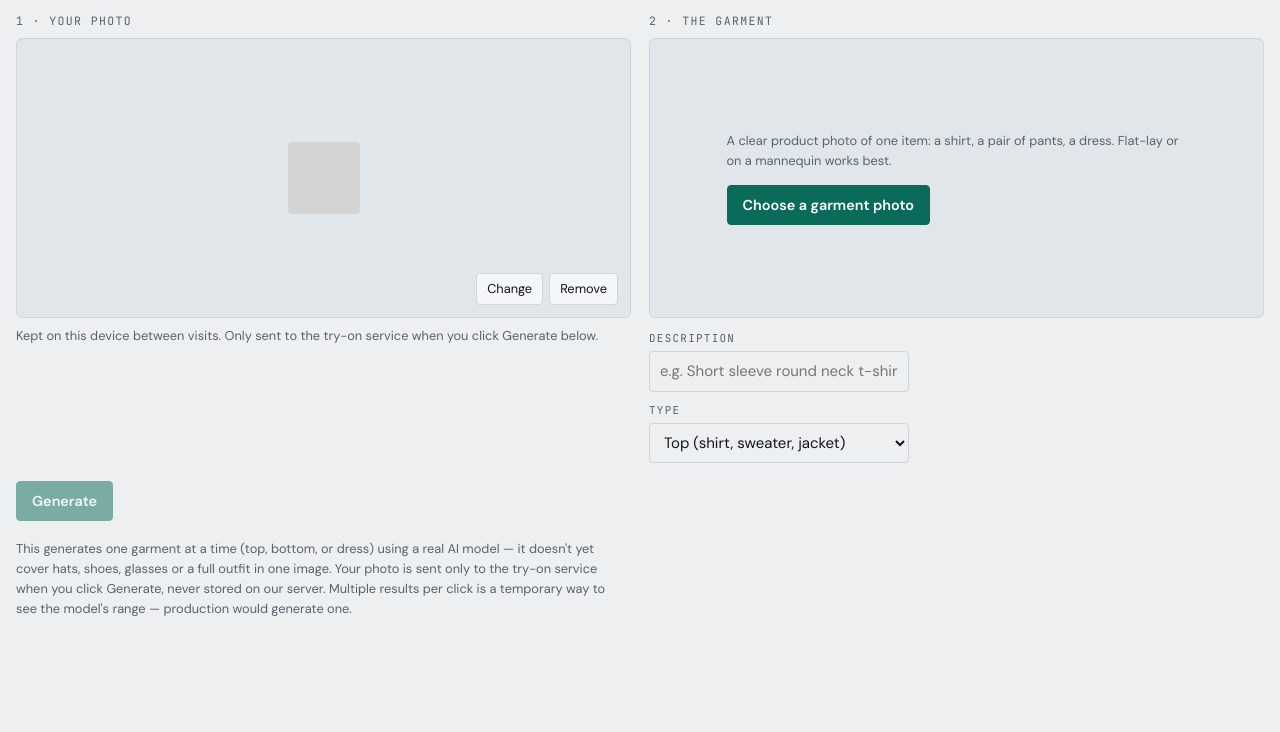
it: PhotoTryOn › Remove clears the saved person photo
Click the button "Remove": [584, 289] box x1=549 y1=273 x2=618 y2=305
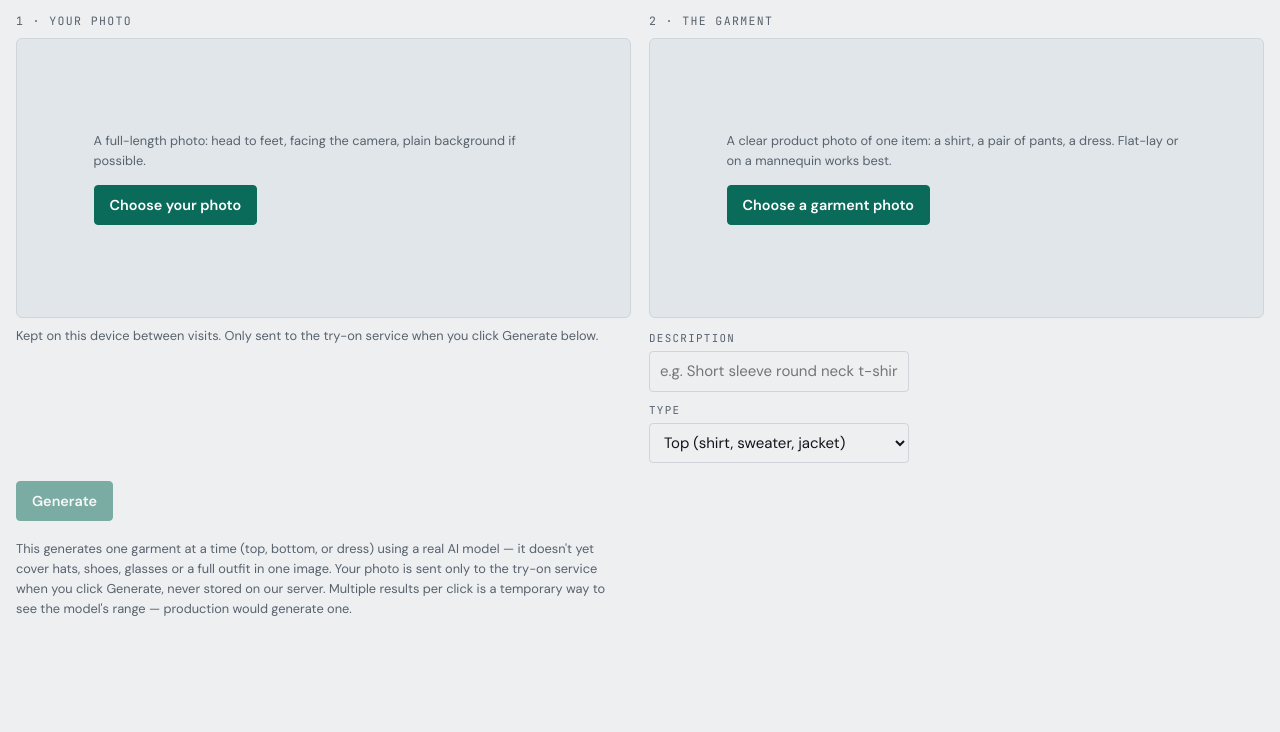
Now the button "Choose your photo" is shown, box x1=94 y1=184 x2=257 y2=225
